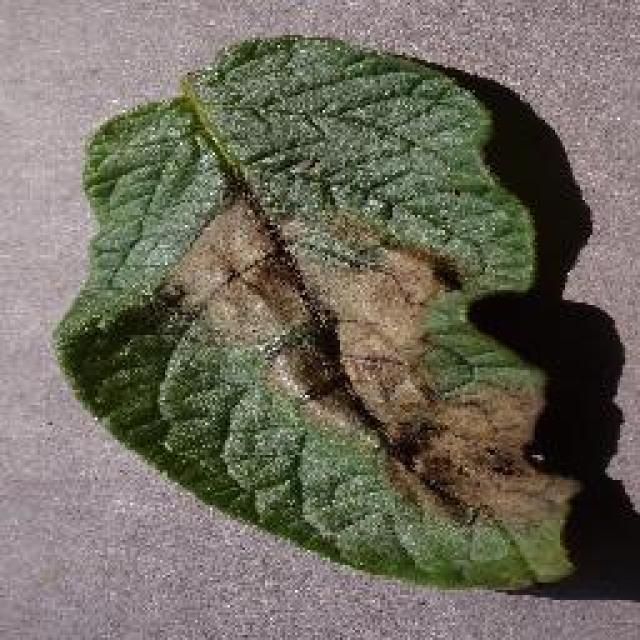Potato___Late_blight: (43, 35, 580, 598)
